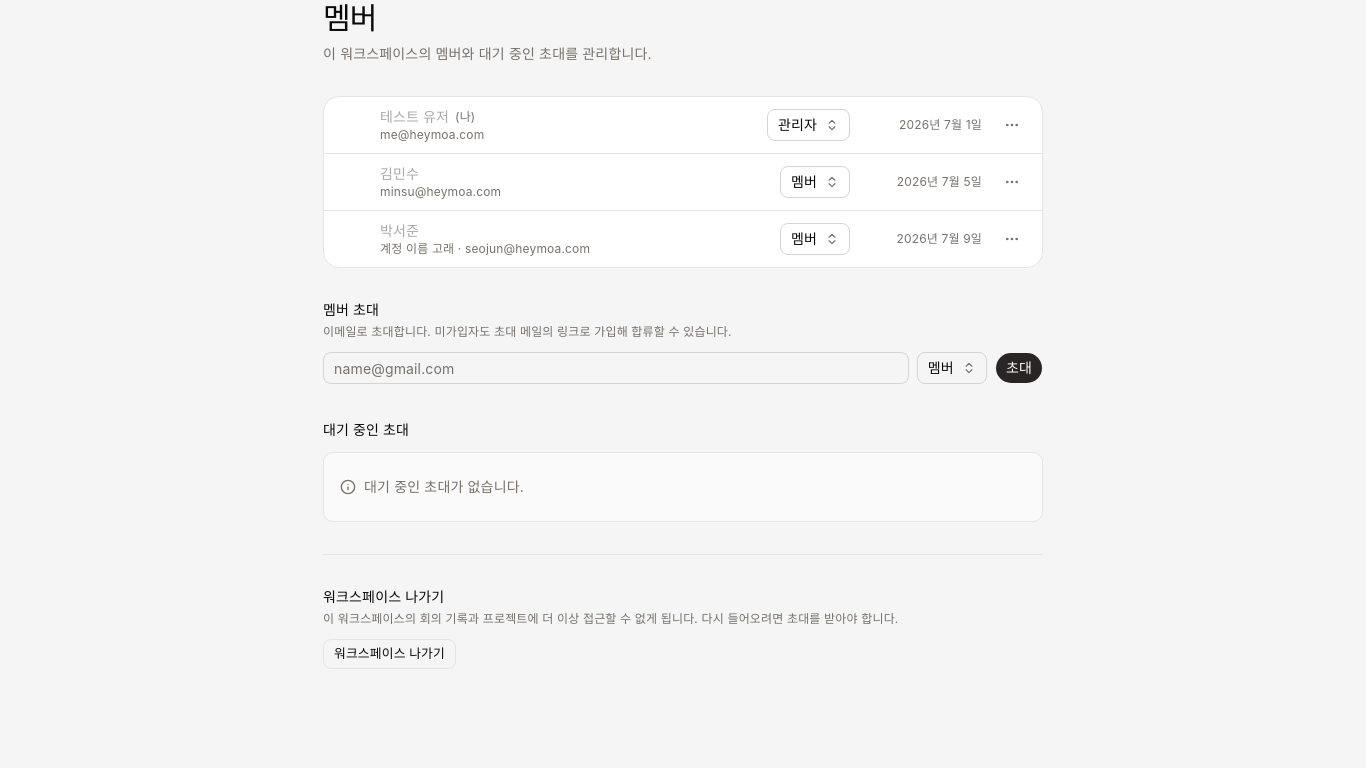
Test: MembersSettings 이름 변경 › 실패하면 닫지 않고 서버 문구를 보인다
Click the button named "김민수(minsu@heymoa.com) 관리" at (1012, 182), box [998, 168, 1026, 196]
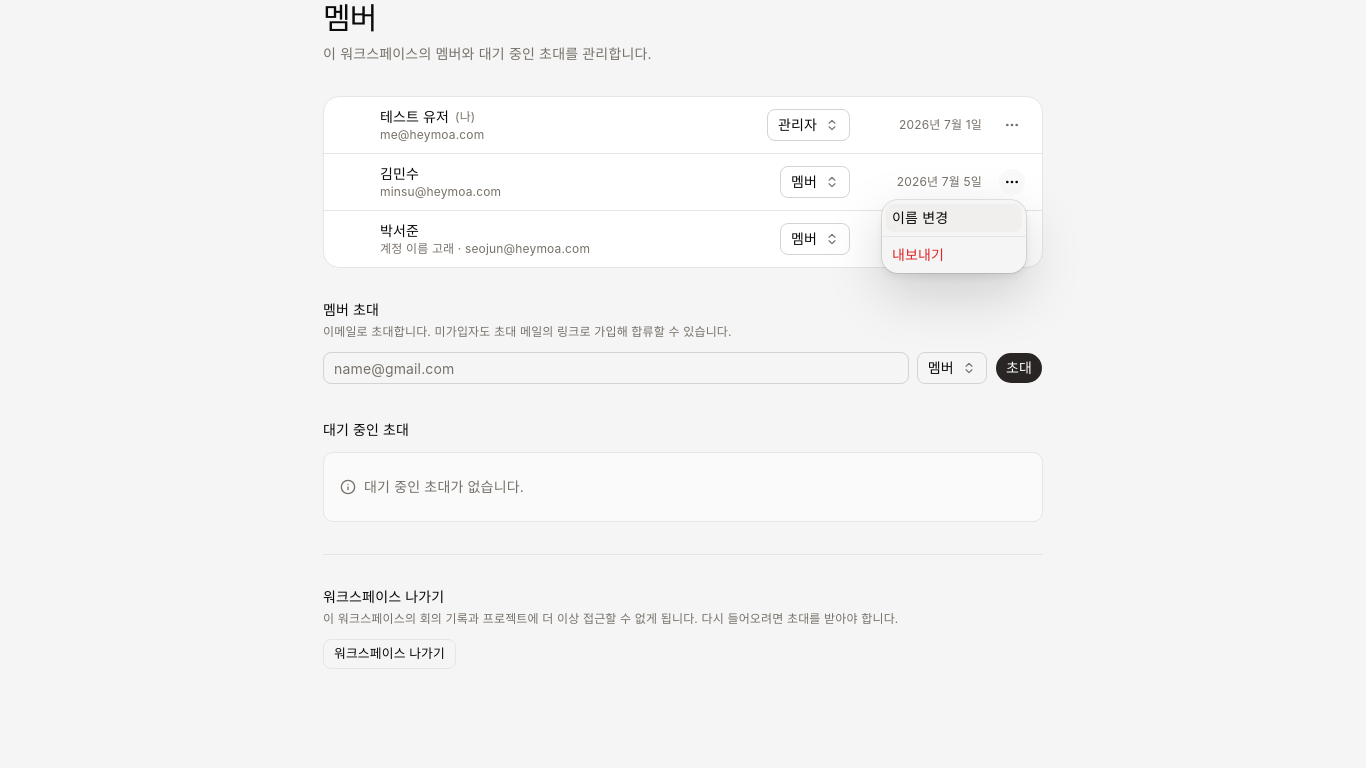
Click the menu item "이름 변경" at (954, 218), box [886, 204, 1022, 232]
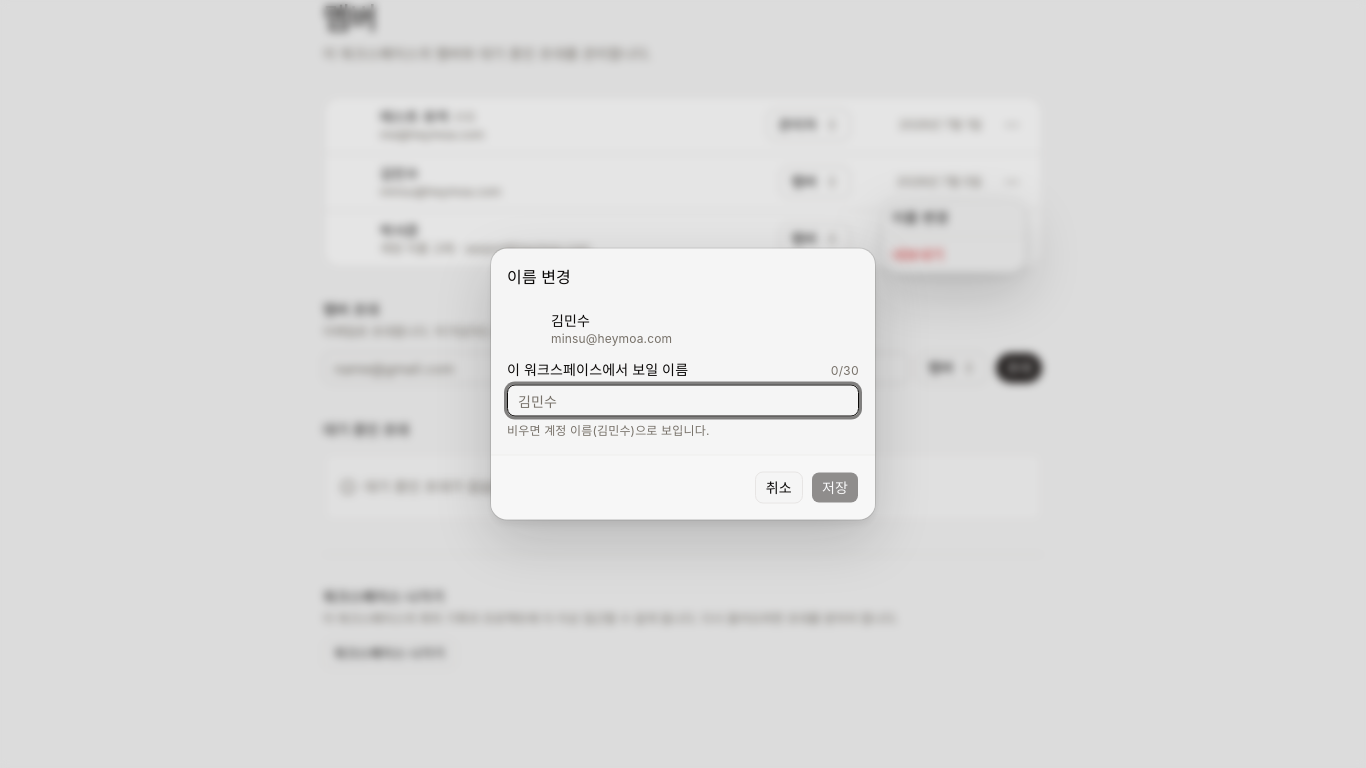
Type "민수" into the field labelled "이 워크스페이스에서 보일 이름" at (683, 400), box [507, 384, 859, 416]
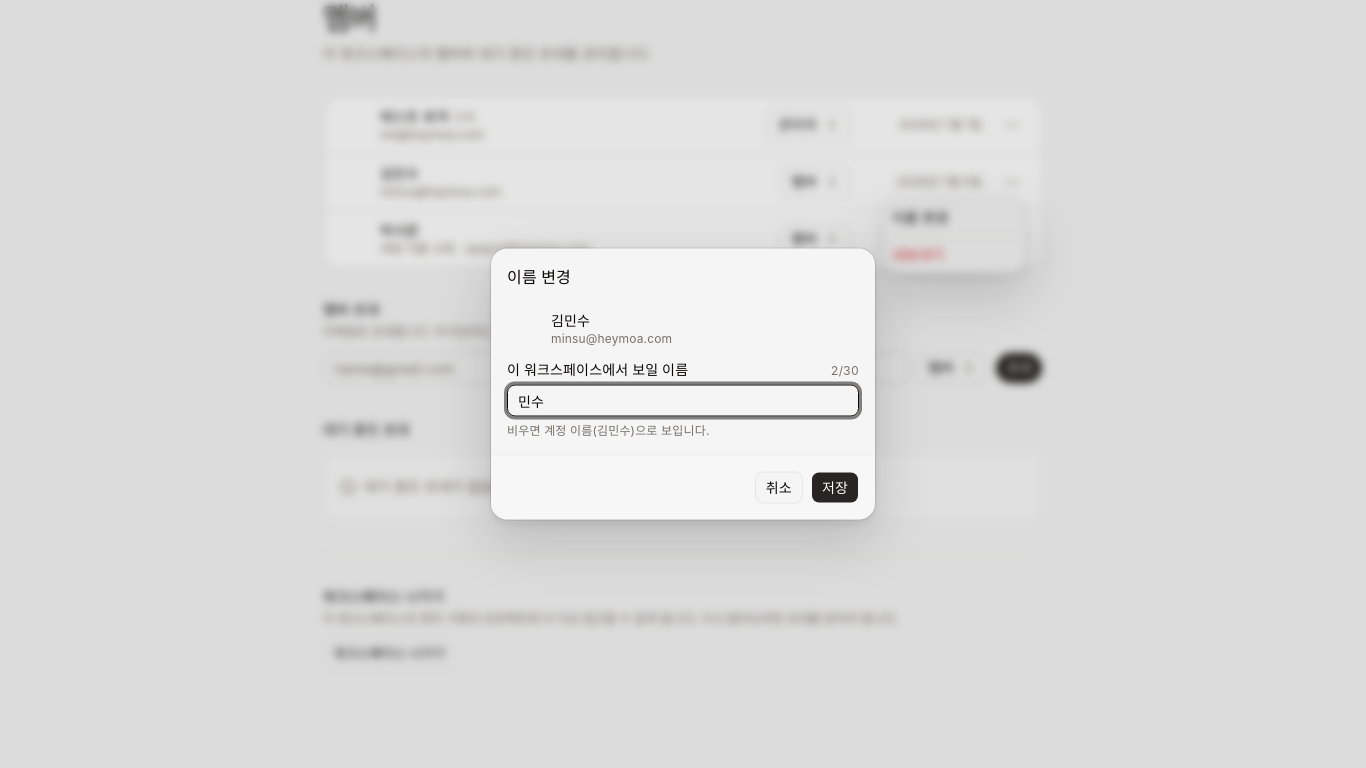
Submit the form "이 워크스페이스에서 보일 이름", box [507, 310, 859, 504]
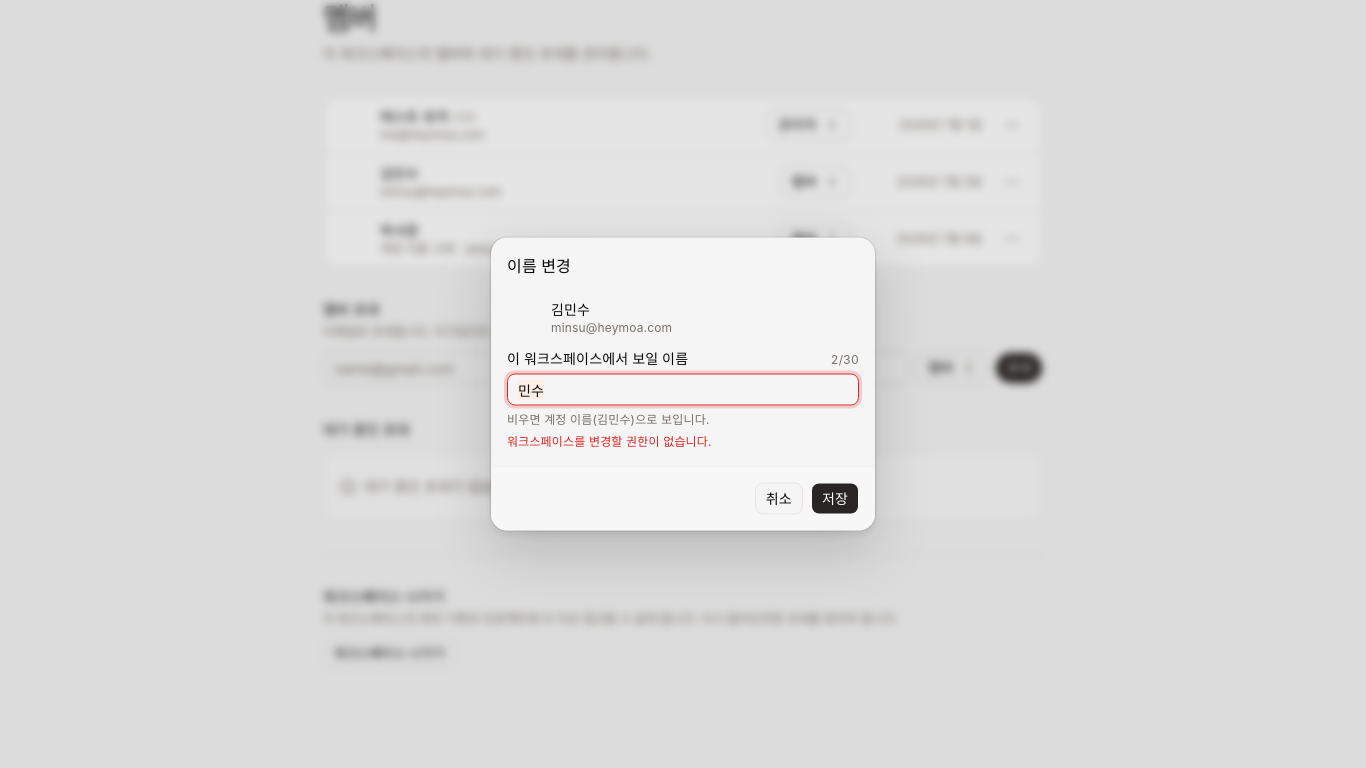
Now the message reads "워크스페이스를 변경할 권한이 없습니다.", box [507, 434, 712, 448]
